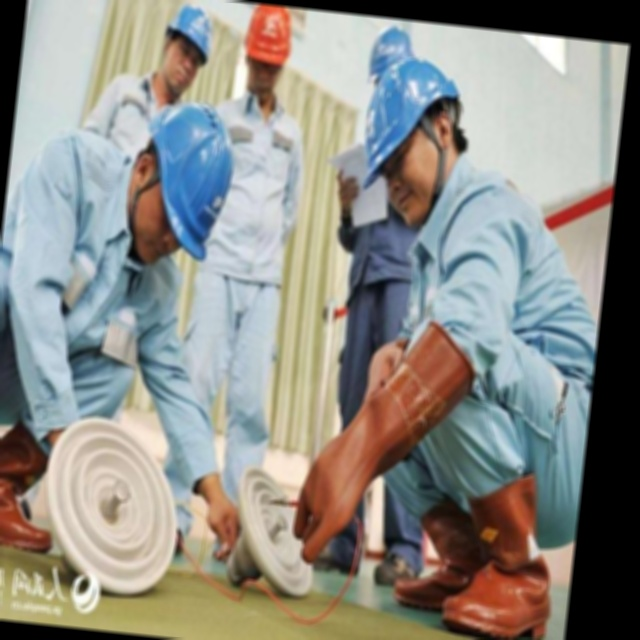Con_Casco: (354, 49, 476, 226), (129, 89, 240, 270)
